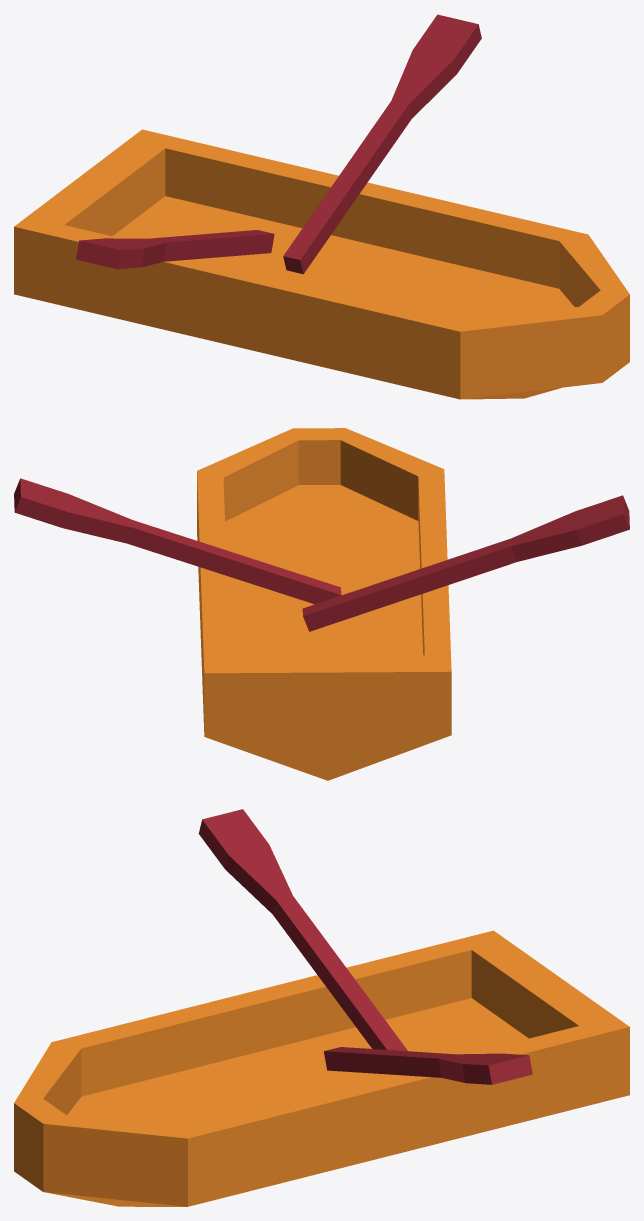
The model's file is boat.fbx.
The picture shows the model from 3 angles, top to bottom: view 1: azimuth 30°, elevation 25°; view 2: azimuth 150°, elevation 25°; view 3: azimuth 270°, elevation 25°; orthographic projection. The views are drawn at different scales.
Parts seen in each view (by area): view 1: lodz.001, wioslo2.001, wioslo1.001; view 2: lodz.001, wioslo1.001, wioslo2.001; view 3: lodz.001, wioslo1.001, wioslo2.001.
Part boxes in pixels (bbox=[...]): lodz.001: bbox=[14, 129, 629, 399]; wioslo2.001: bbox=[283, 14, 481, 274]; wioslo1.001: bbox=[76, 230, 274, 269]; lodz.001: bbox=[197, 428, 451, 780]; wioslo1.001: bbox=[302, 495, 629, 631]; wioslo2.001: bbox=[14, 478, 341, 604]; lodz.001: bbox=[14, 930, 629, 1206]; wioslo1.001: bbox=[198, 809, 407, 1051]; wioslo2.001: bbox=[324, 1047, 532, 1084].
Size of the model in its own units: 4.24 by 1.58 by 4.23.
